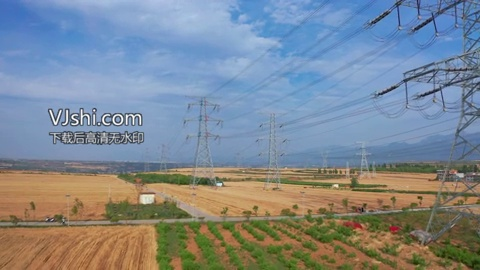tower_body: (181, 90, 233, 188), (258, 108, 290, 189)
tower_foot: (191, 163, 219, 187)
tower_head: (185, 93, 225, 111)
